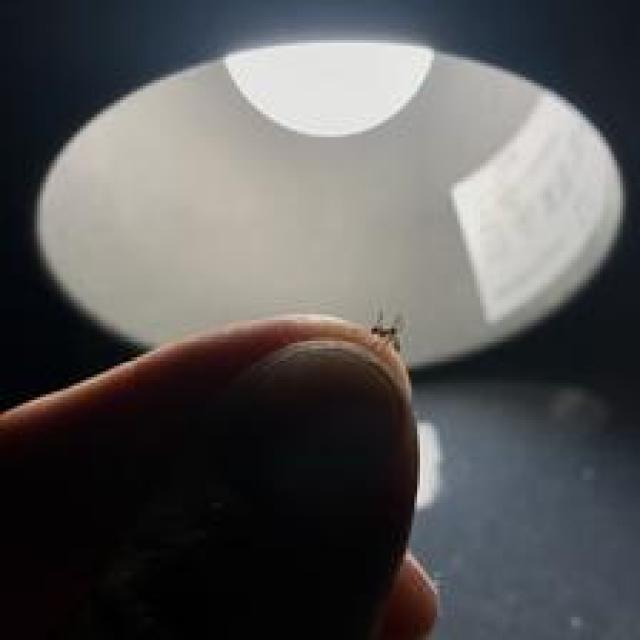Culex: (368, 309, 406, 354)
